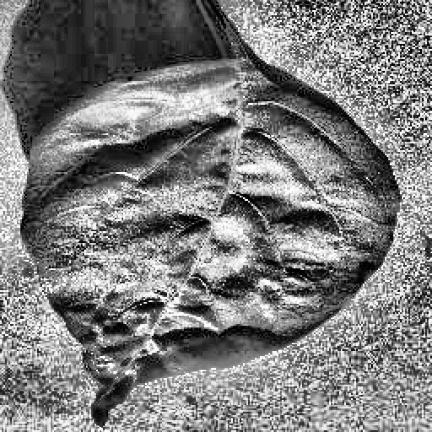leaf: (22, 0, 398, 424)
